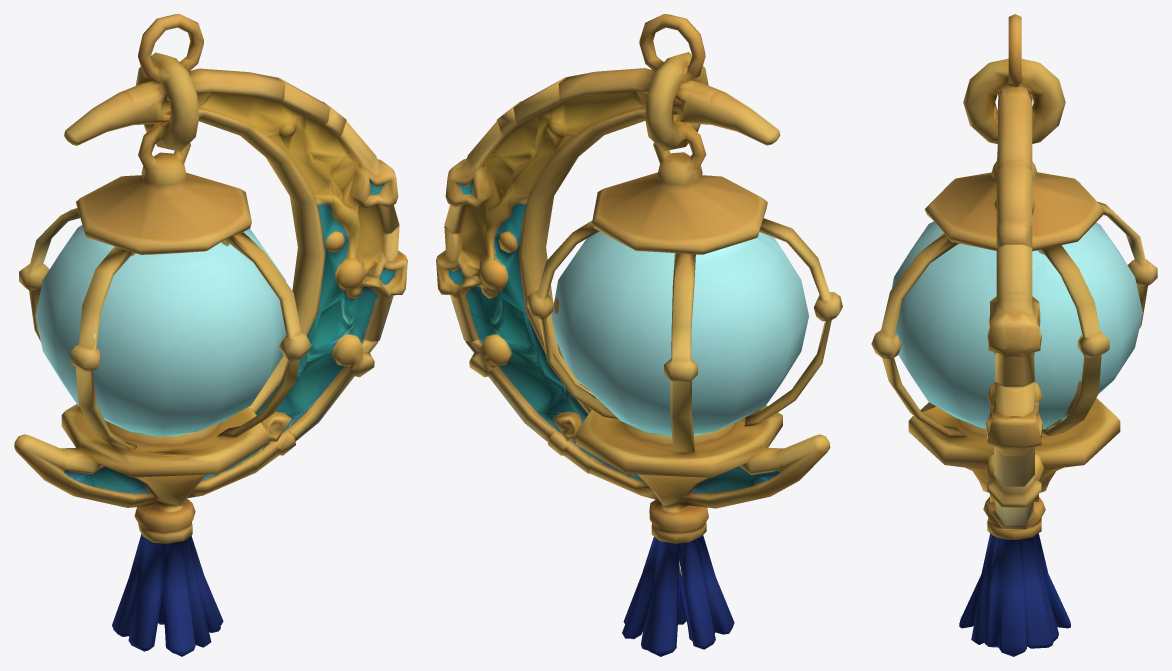
File: moon-lantern.glb
3 views of the same model, side by side, from view 1: azimuth 30°, elevation 25°; view 2: azimuth 150°, elevation 25°; view 3: azimuth 270°, elevation 25° (orthographic).
Parts seen in each view (by area): view 1: tripo_node_ca6b1bf1-4cf3-48b3-9d44-d0190263137f; view 2: tripo_node_ca6b1bf1-4cf3-48b3-9d44-d0190263137f; view 3: tripo_node_ca6b1bf1-4cf3-48b3-9d44-d0190263137f.
Part boxes in pixels (left/top/right/bottom): tripo_node_ca6b1bf1-4cf3-48b3-9d44-d0190263137f: left=14, top=14, right=407, bottom=656; tripo_node_ca6b1bf1-4cf3-48b3-9d44-d0190263137f: left=436, top=14, right=842, bottom=656; tripo_node_ca6b1bf1-4cf3-48b3-9d44-d0190263137f: left=871, top=14, right=1157, bottom=656.
Size of the model in its own units: 0.6373 by 0.978 by 0.4115.
Materials: 1 (1 with a texture image).
